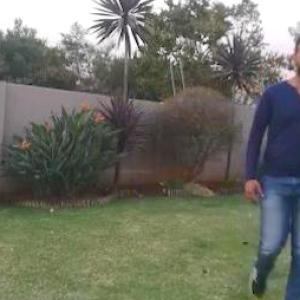follow: (256, 52, 299, 299)
